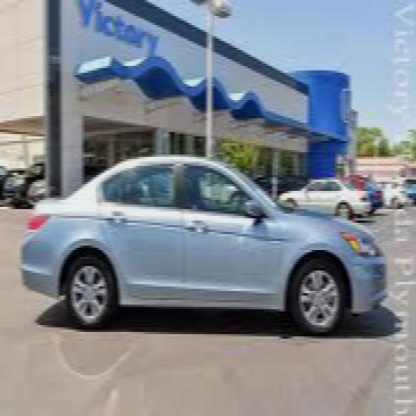Vehicle: (24, 159, 390, 341)
